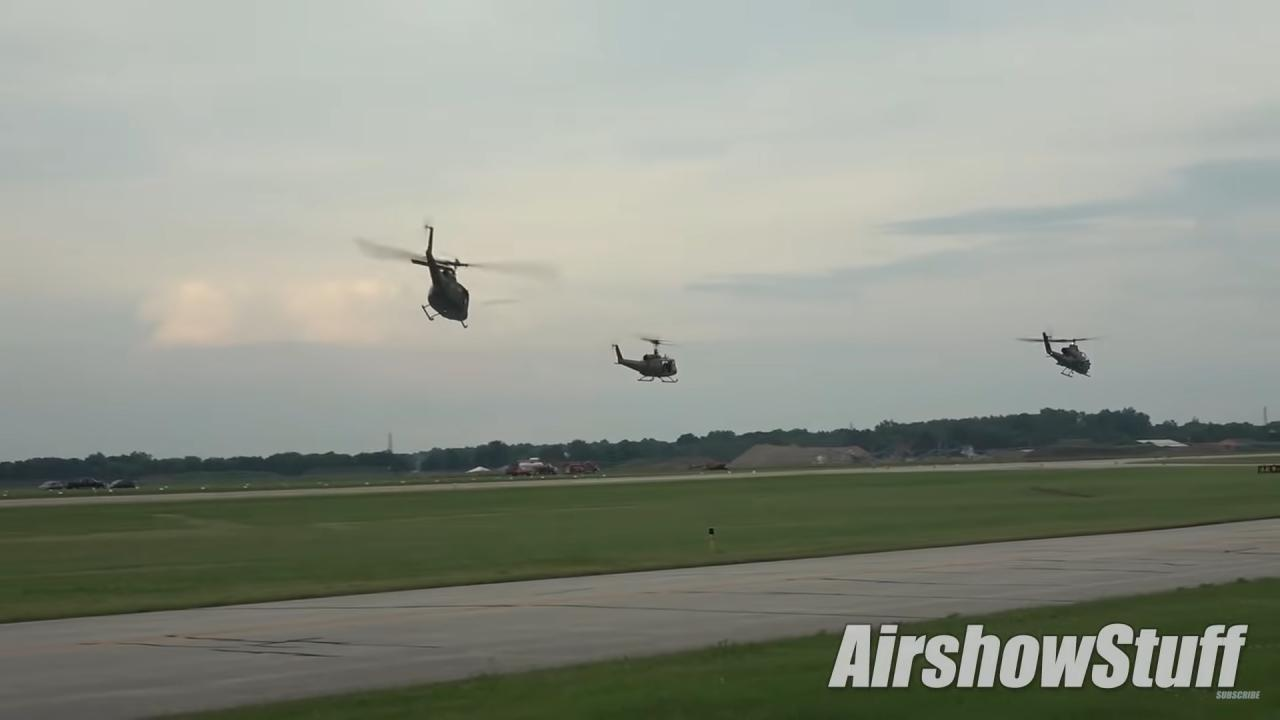Helicopter: (337, 206, 568, 348), (586, 314, 724, 401), (1004, 314, 1127, 395)
